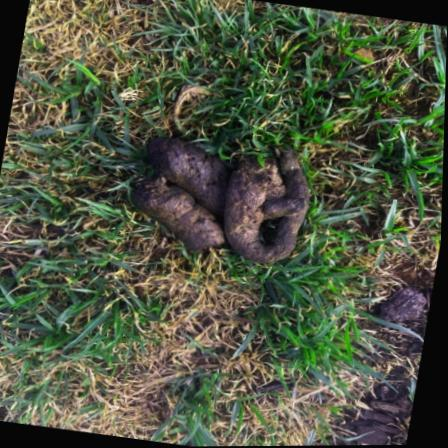dog-poop: (116, 128, 330, 277)
